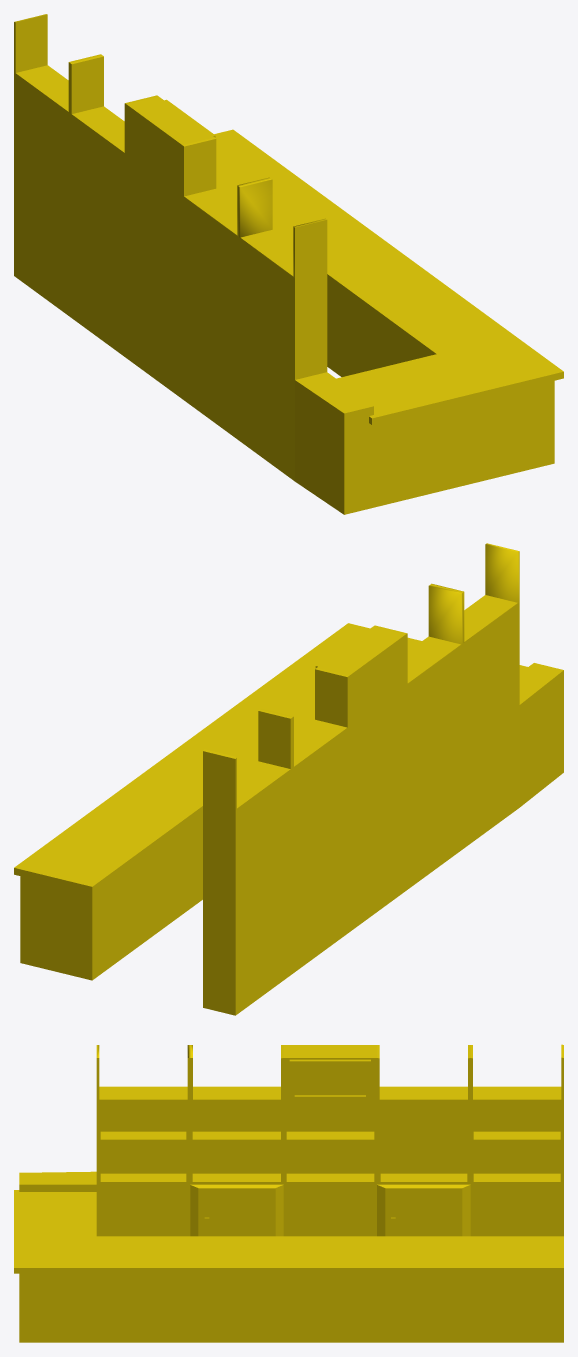
File: Bar (2).fbx
The picture shows the model from 3 angles, top to bottom: view 1: azimuth 30°, elevation 25°; view 2: azimuth 150°, elevation 25°; view 3: azimuth 270°, elevation 25°; orthographic projection. The views are drawn at different scales.
Parts seen in each view (by area): view 1: Bar.002; view 2: Bar.002; view 3: Bar.002.
Part boxes in pixels (x1,y1,x2,y2): Bar.002: [14, 14, 563, 514]; Bar.002: [14, 543, 563, 1015]; Bar.002: [14, 1044, 563, 1342].
Size of the model in its own units: 270 by 300 by 706.
